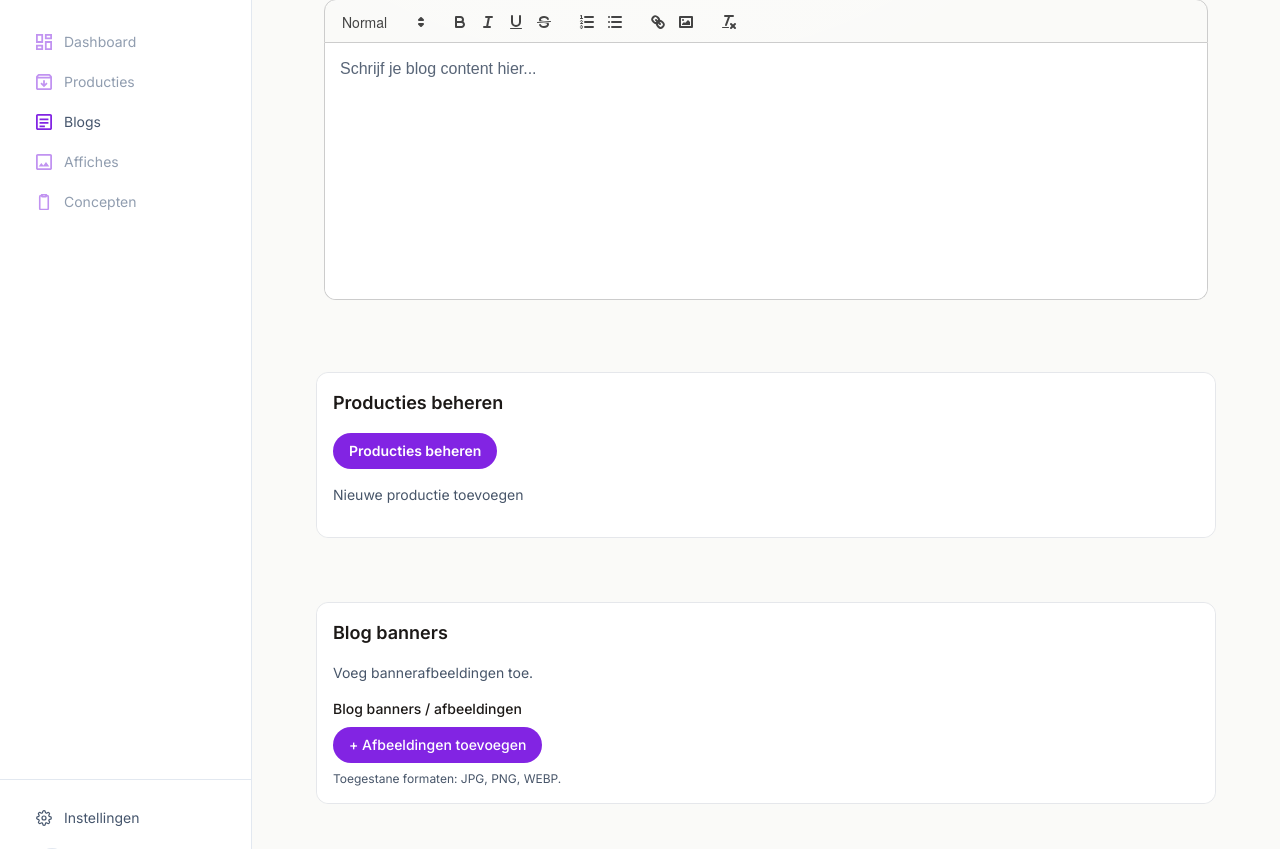
Test: CreateBlogPage › opens the production popup, adds a production, and removes it again
(page scrolled)
Click the button "Producties beheren". click: (415, 451)
box: [333,433,497,469]
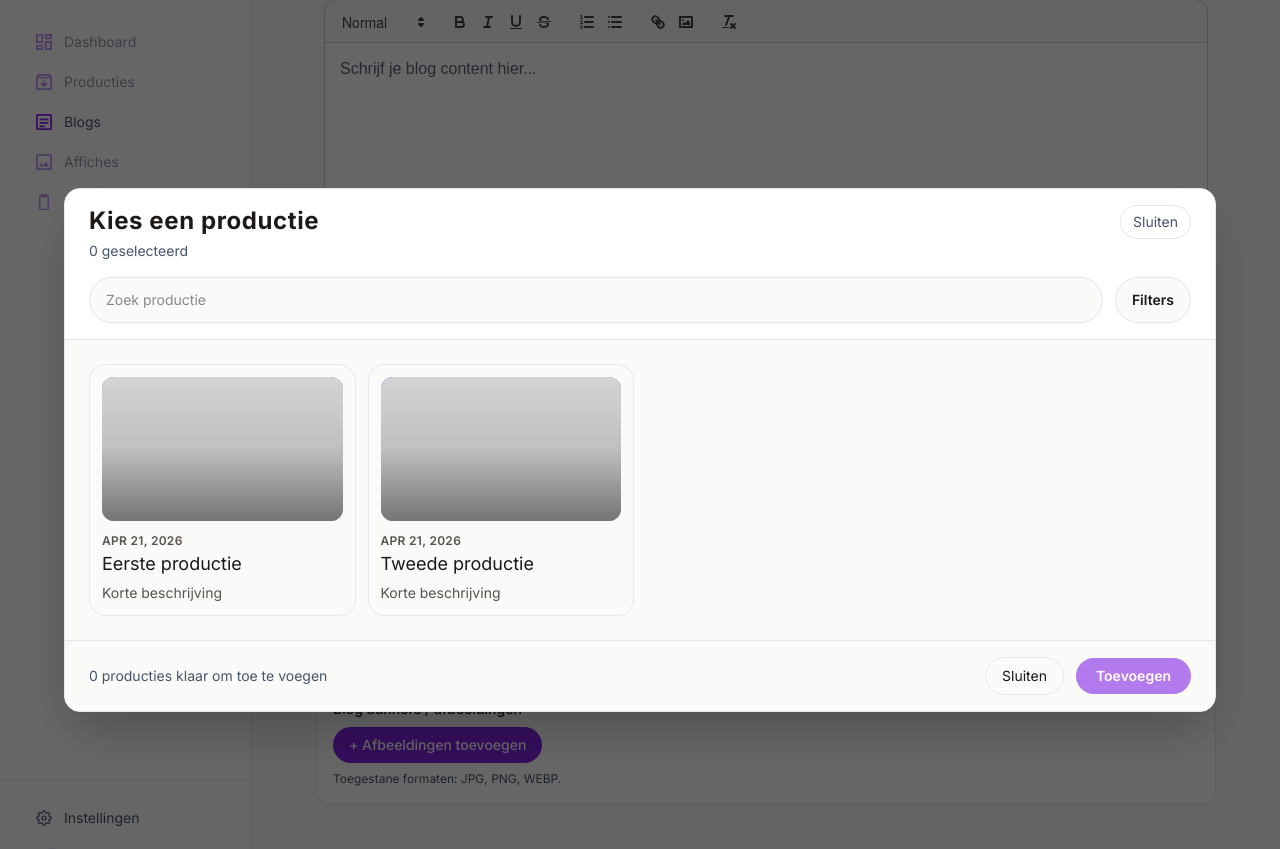
Expected: the heading "Kies een productie" is shown, [89,205,319,237]
Click the button "Apr 21, 2026 Eerste productie Korte beschrijving". click: (222, 490)
box: [89,364,356,616]
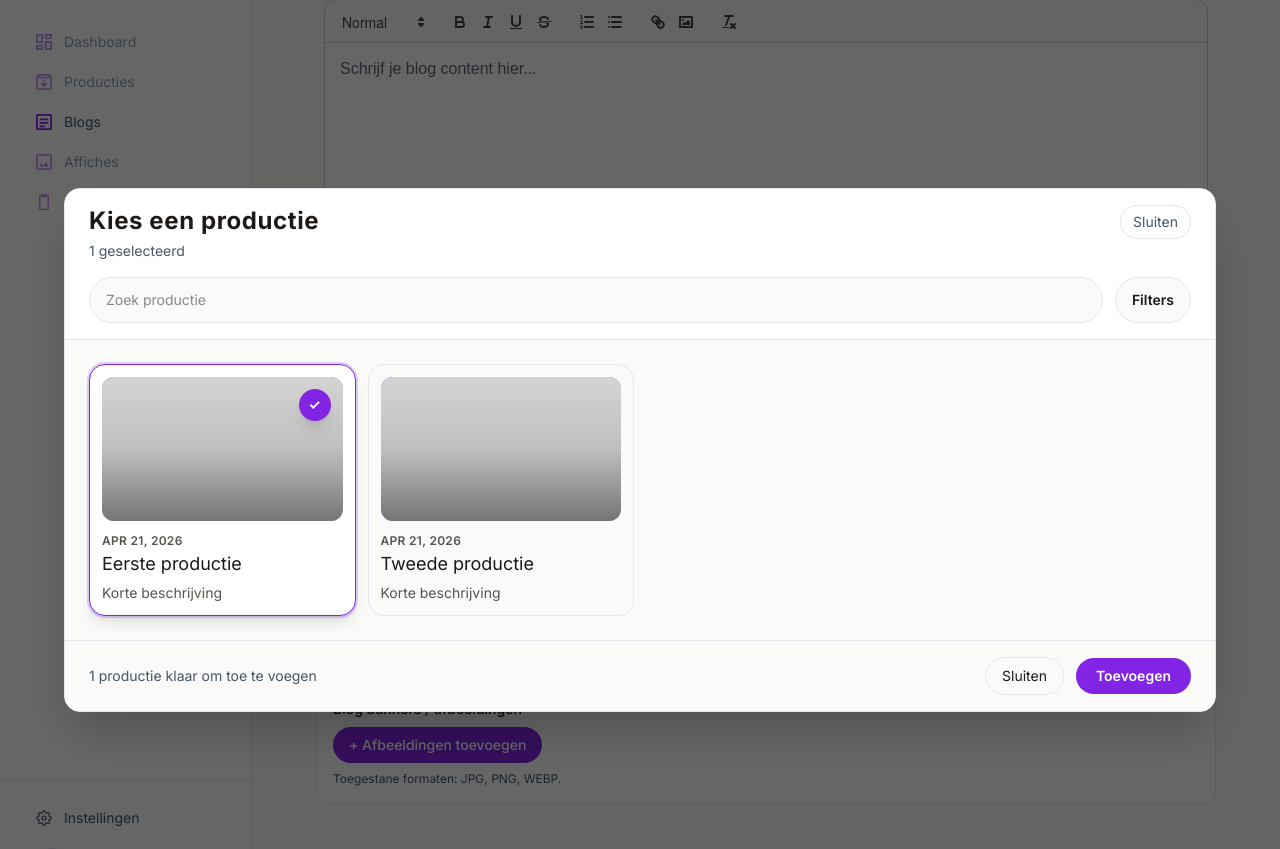
Click the button "Toevoegen". click: (1133, 676)
box: [1076,658,1191,694]
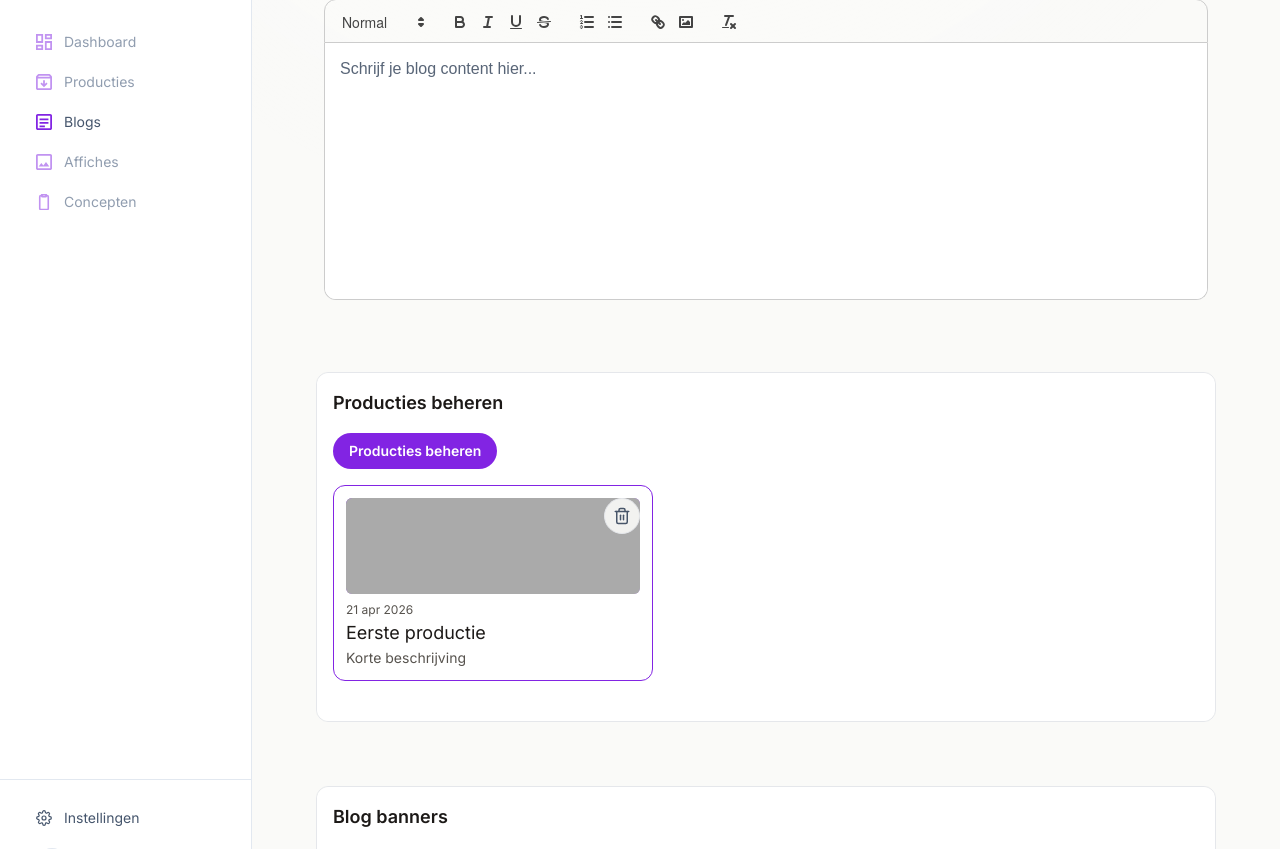
Expected: the heading "Eerste productie" is shown, [346,622,486,643]
Click the button named "Verwijder productie". click: (622, 516)
box: [604,498,640,534]
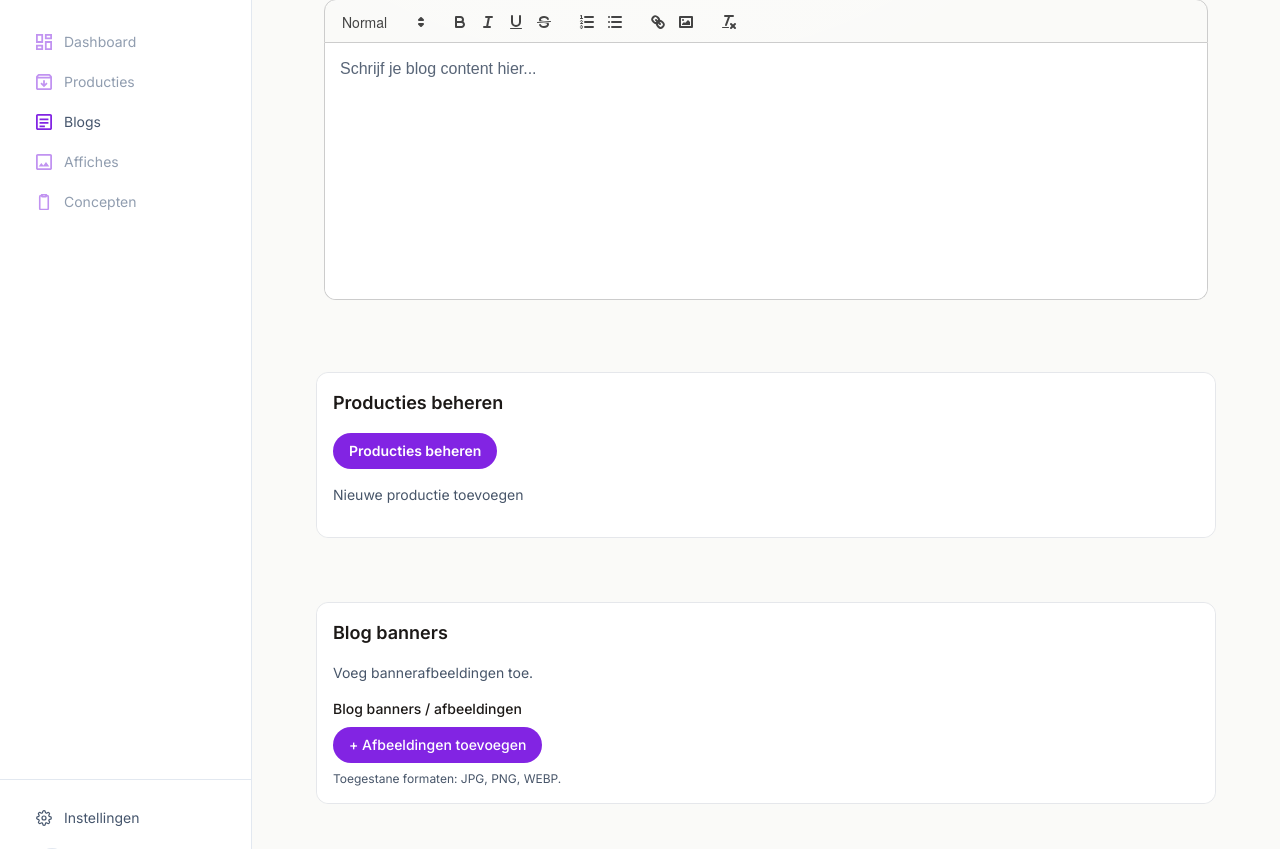
Expected: the heading "Eerste productie" is gone
